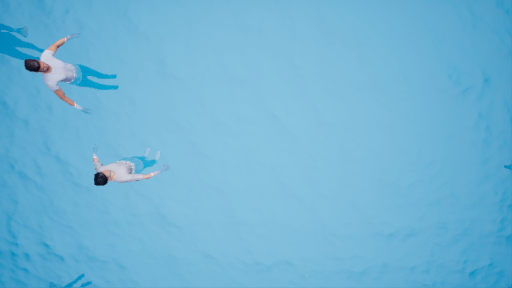person: (23, 33, 125, 116), (87, 145, 172, 187)
